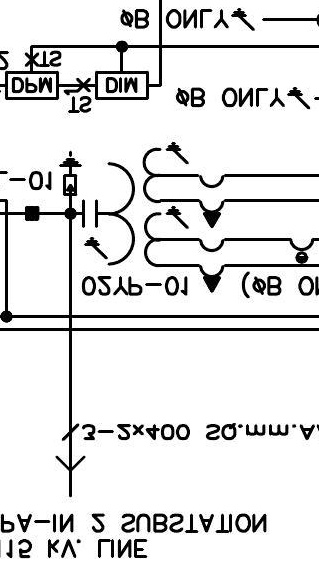115_cvt_1p: (81, 141, 227, 294)
115_la: (58, 150, 82, 196)
DIM: (95, 71, 149, 100)
DPM: (5, 71, 59, 100)
